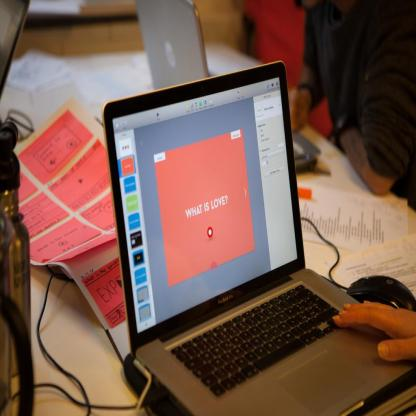board: (101, 57, 413, 415), (134, 0, 319, 177), (1, 0, 29, 103)
